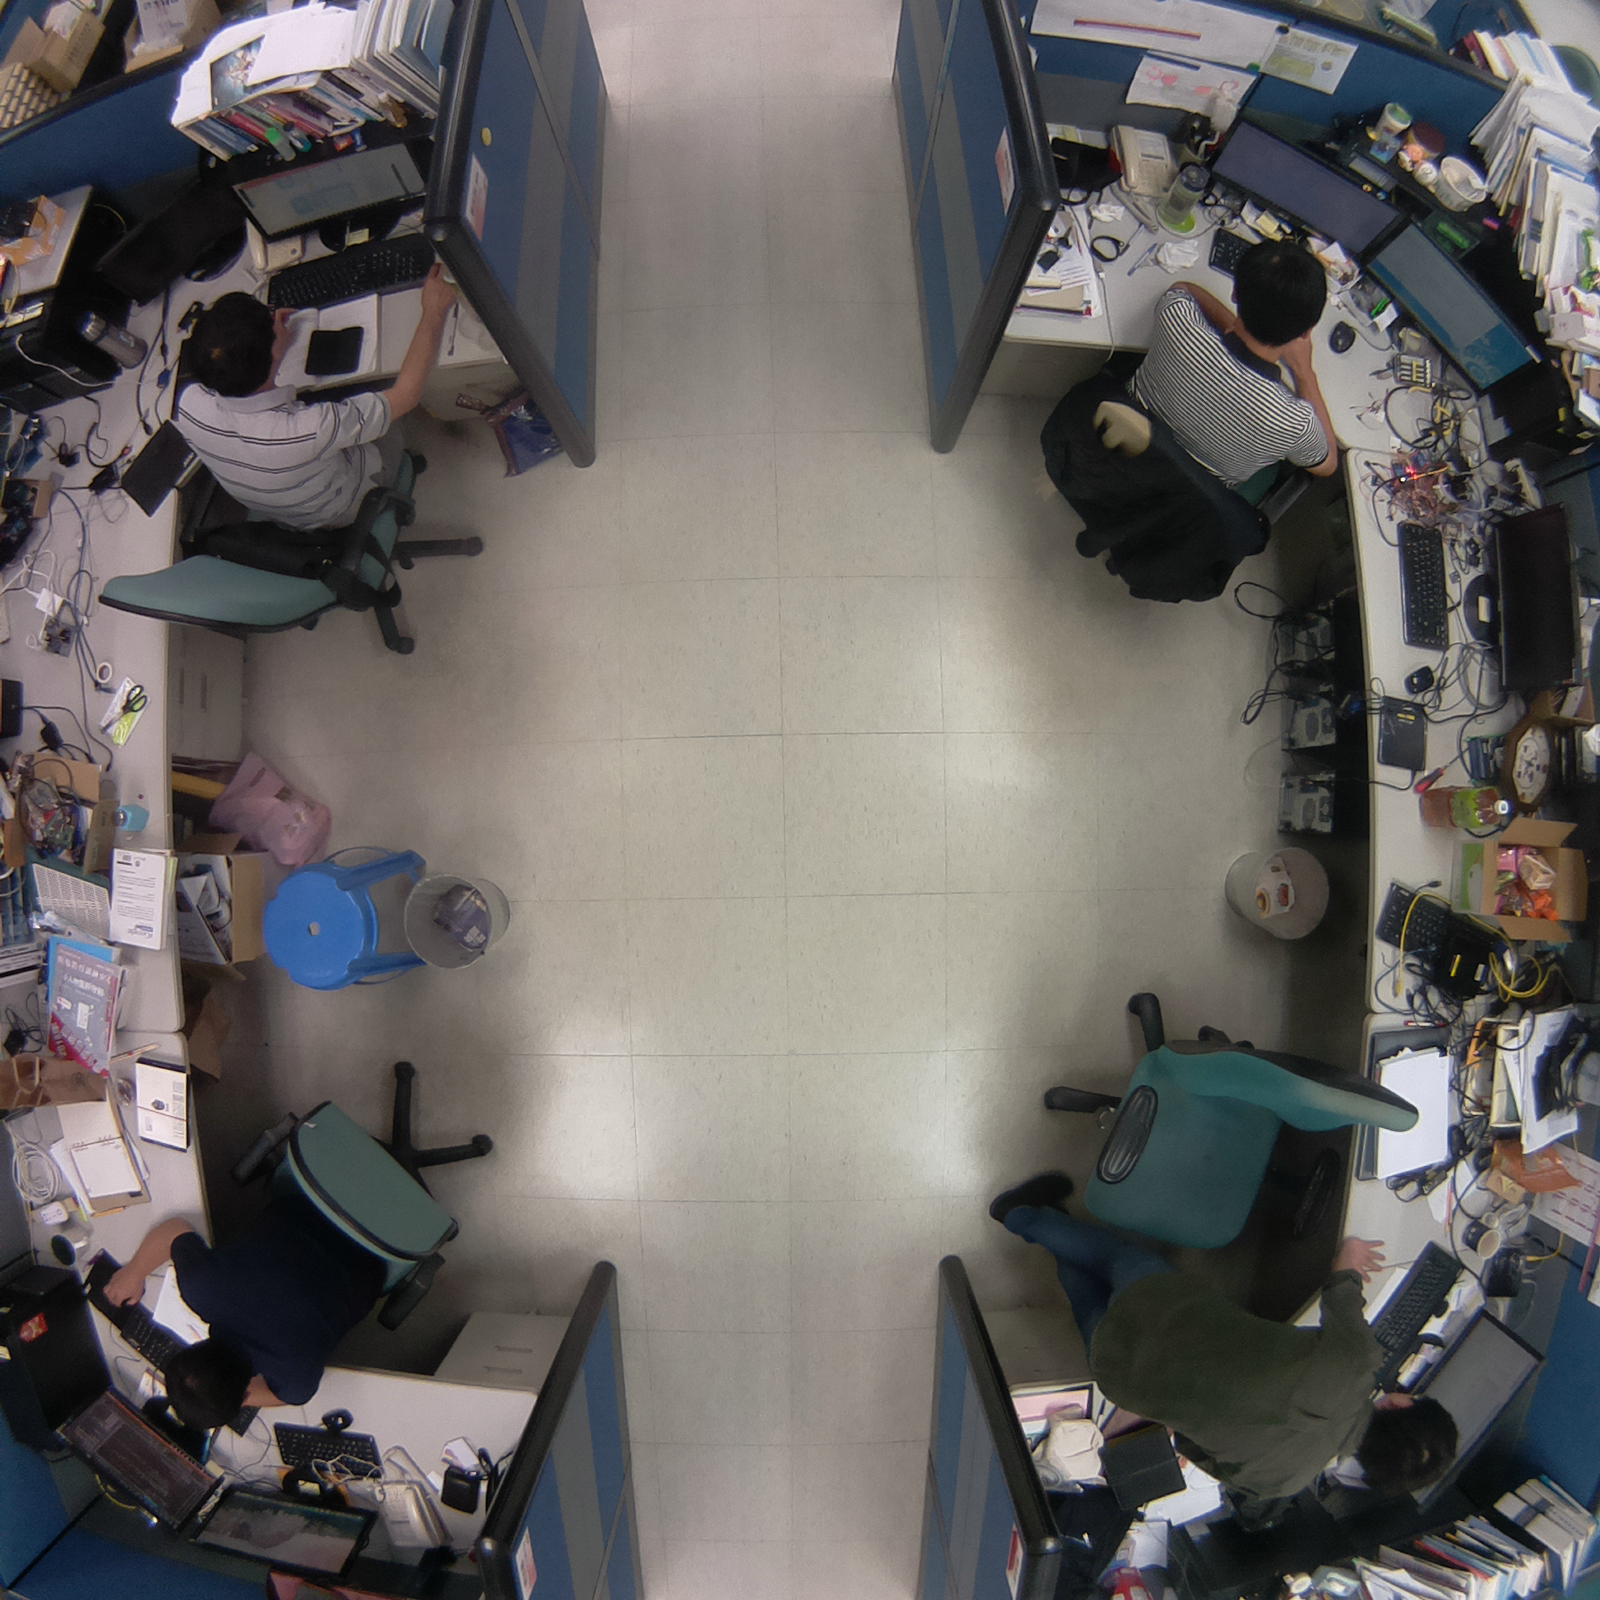chair: (1024, 978, 1427, 1268)
head: (1225, 238, 1344, 353), (1353, 1387, 1466, 1500), (183, 287, 280, 402), (155, 1338, 263, 1434)
sitting: (976, 1158, 1484, 1535), (88, 266, 514, 675), (95, 1040, 501, 1426), (1019, 243, 1348, 632)
